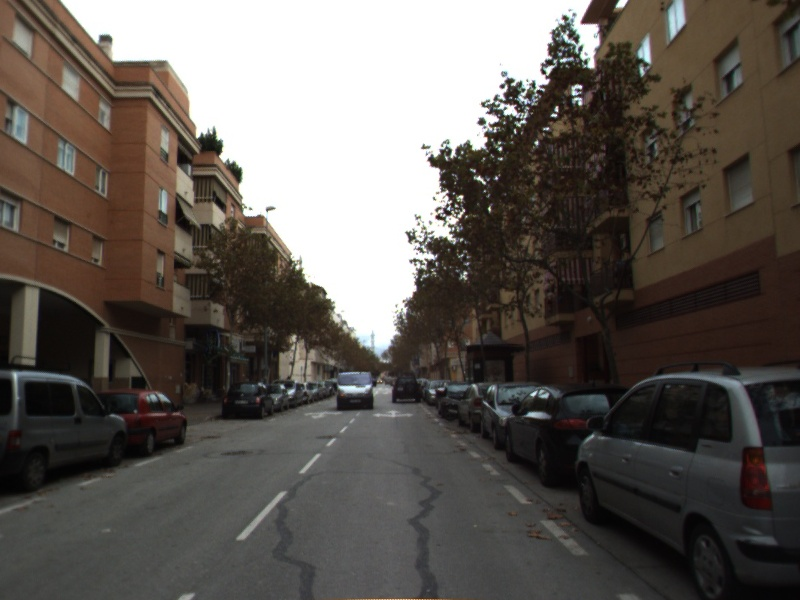STRAIGHT_LEFT_RIGHT: (371, 408, 416, 420)
